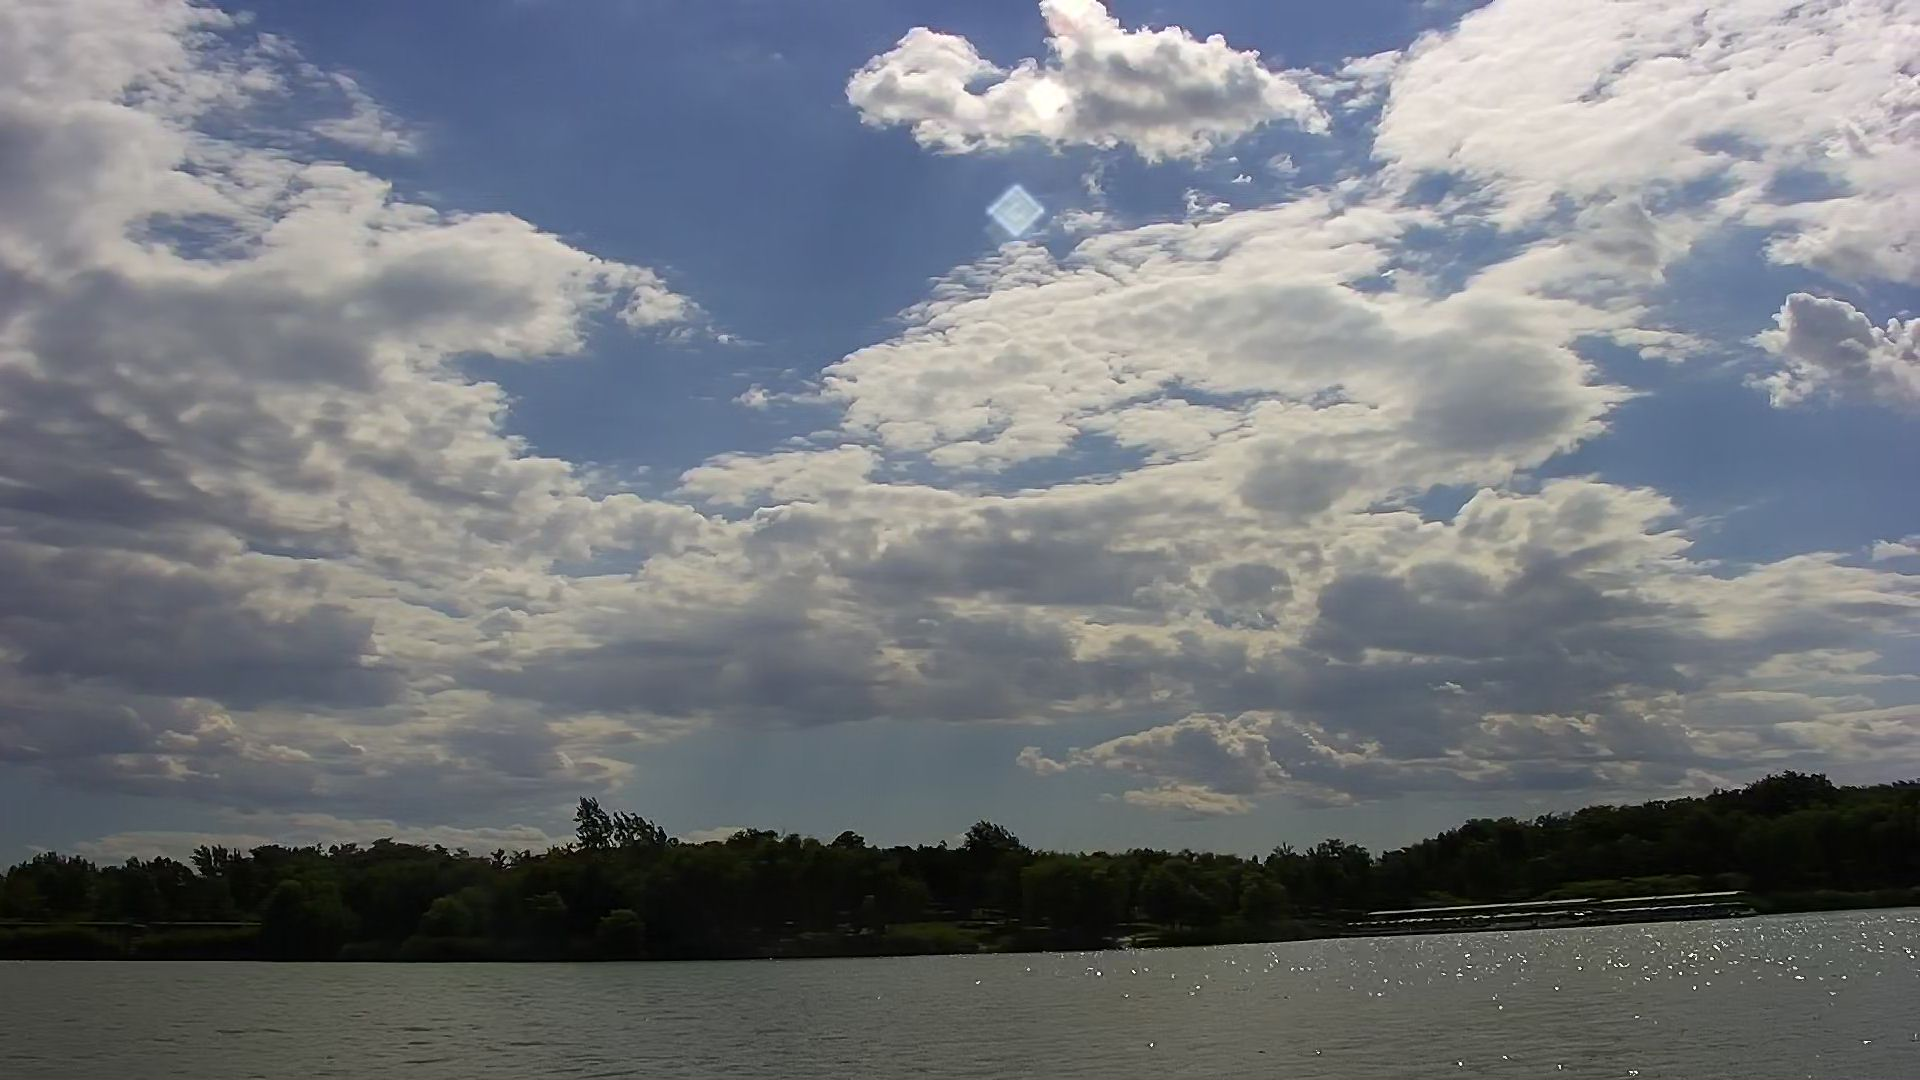harbor: (1374, 889, 1749, 934)
